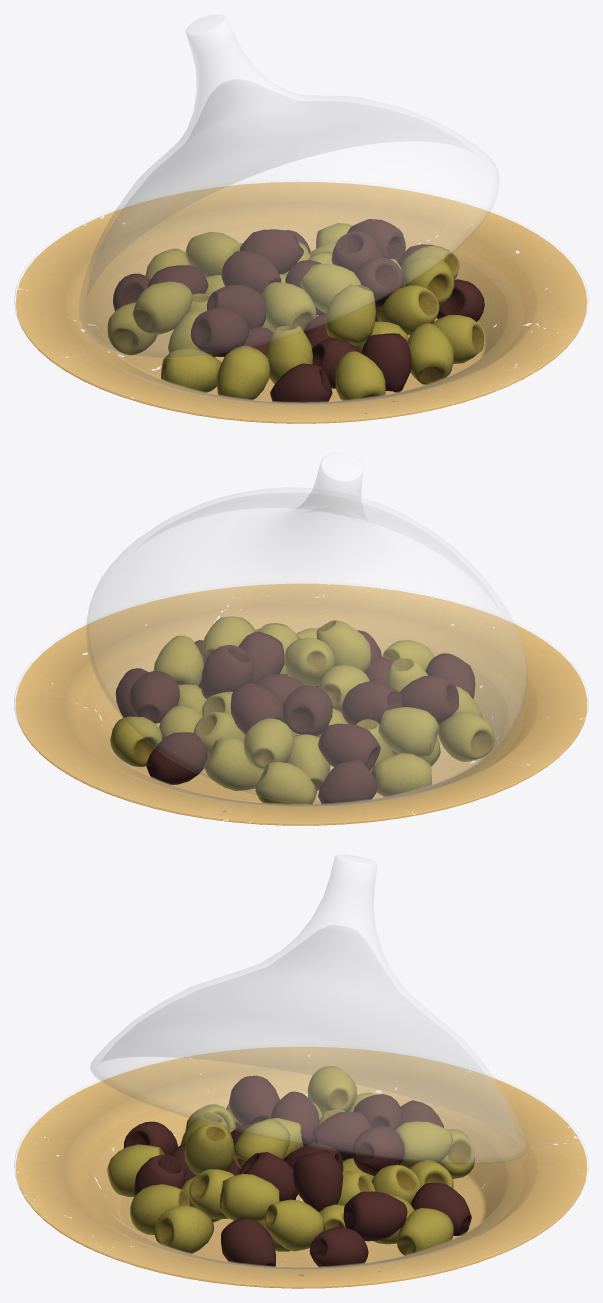
The model's file is IridescentDishWithOlives.glb.
3 renders of one model, top to bottom at view 1: azimuth 30°, elevation 25°; view 2: azimuth 150°, elevation 25°; view 3: azimuth 270°, elevation 25°, orthographic.
Visible parts, largest first — view 1: glassCover, goldLeaf, glassDish, olives; view 2: glassCover, glassDish, goldLeaf, olives; view 3: glassCover, goldLeaf, olives, glassDish.
Boxes of the visible parts, bbox=[...] form: glassCover: bbox=[78, 14, 499, 358]; goldLeaf: bbox=[15, 181, 587, 423]; glassDish: bbox=[14, 179, 588, 422]; olives: bbox=[107, 219, 484, 402]; glassCover: bbox=[86, 452, 527, 805]; glassDish: bbox=[14, 581, 588, 824]; goldLeaf: bbox=[15, 583, 587, 825]; olives: bbox=[110, 616, 494, 804]; glassCover: bbox=[90, 854, 527, 1164]; goldLeaf: bbox=[15, 1047, 587, 1288]; olives: bbox=[107, 1066, 474, 1267]; glassDish: bbox=[14, 1057, 588, 1287].
Size of the model in its own units: 0.4593 by 0.2855 by 0.4593.
Materials: 4 (2 with a texture image).
